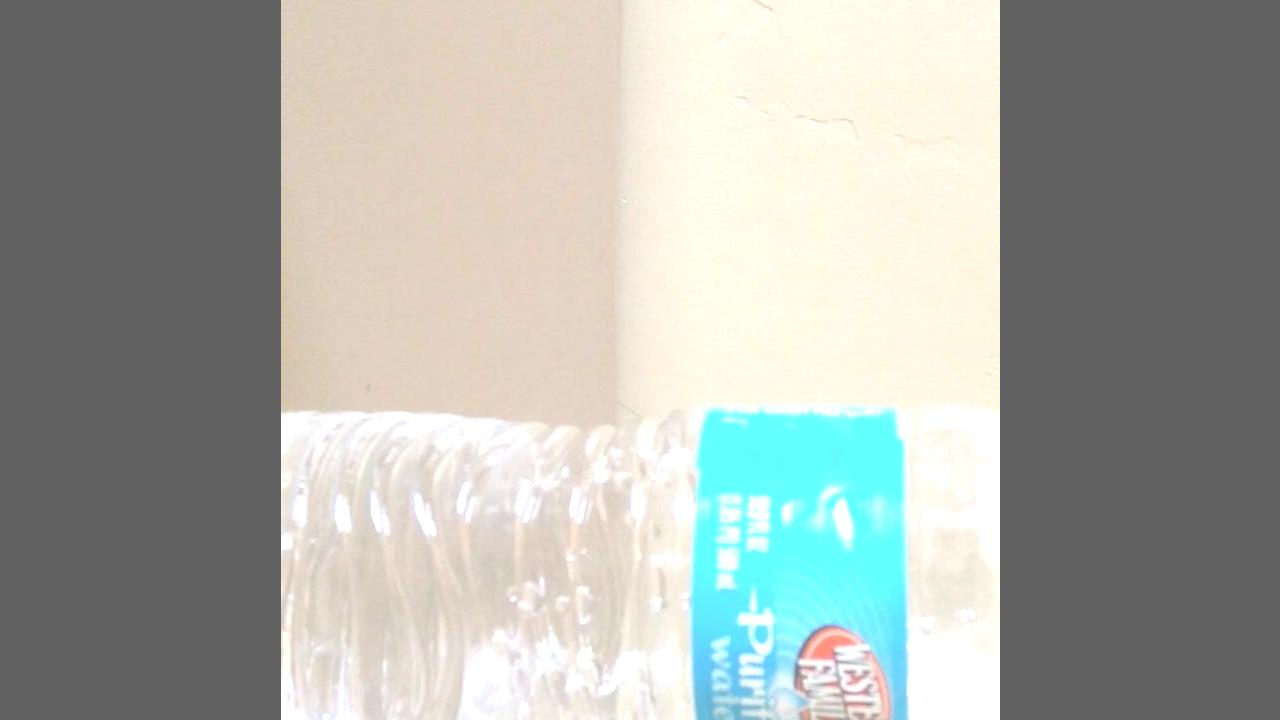bottle: (280, 388, 1000, 720)
